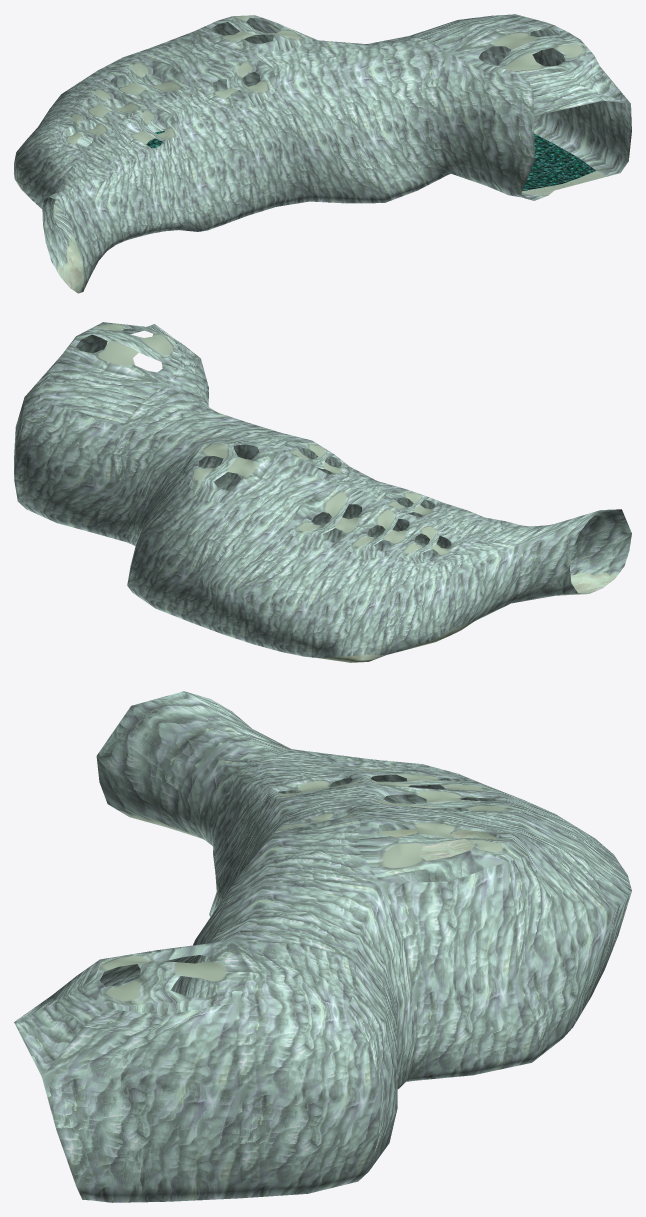
Rendered from TROLLHOLE02_PS-MAINCAVE.obj.
3 views of the same model, one above another, from view 1: azimuth 30°, elevation 25°; view 2: azimuth 150°, elevation 25°; view 3: azimuth 270°, elevation 25° (orthographic). The views are drawn at different scales.
Parts seen in each view (by area): view 1: Ps-MainCave; view 2: Ps-MainCave; view 3: Ps-MainCave.
Part boxes in pixels (x1,y1,x2,y2): Ps-MainCave: (14,14,631,293); Ps-MainCave: (14,322,631,662); Ps-MainCave: (14,691,631,1202).
Size of the model in its own units: 3977 by 951 by 2611.
